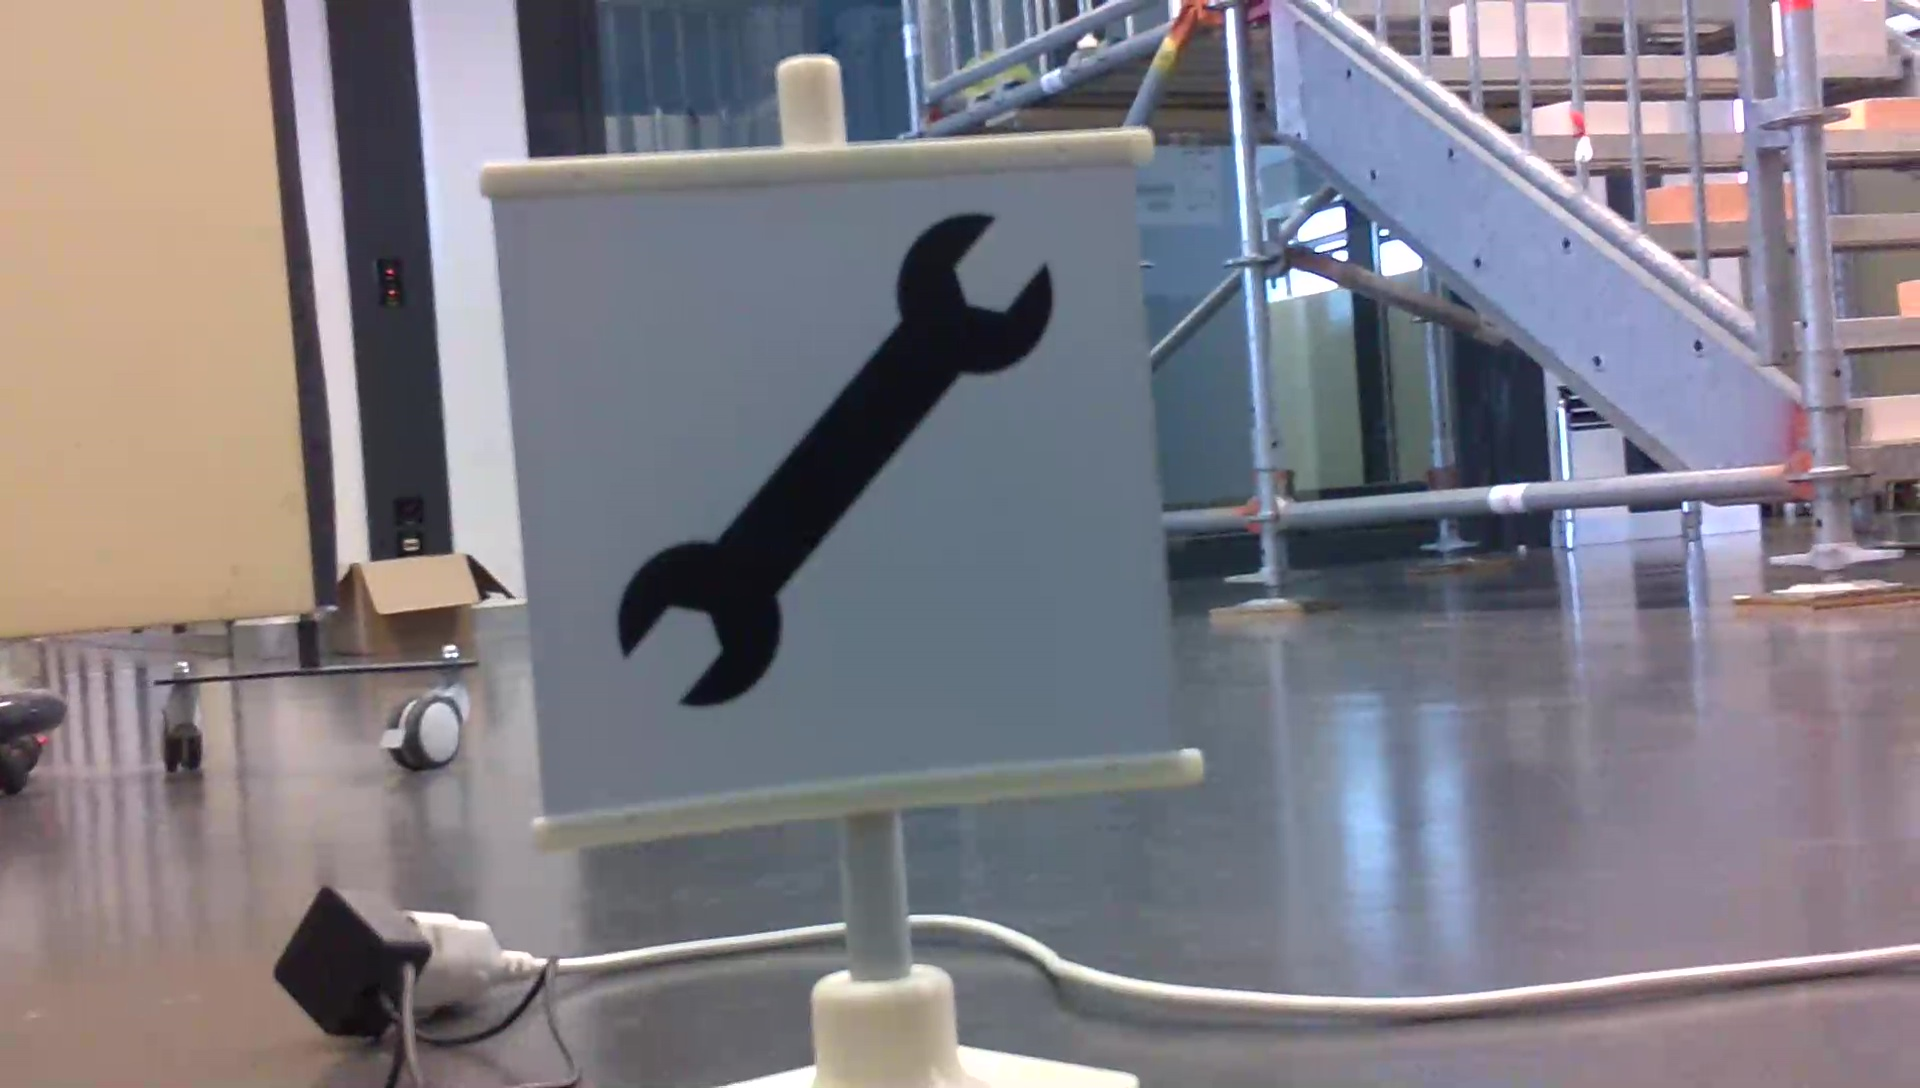brick: (1816, 3, 1886, 55), (1837, 98, 1920, 133), (1865, 393, 1920, 440), (1898, 281, 1920, 315)
wrench: (600, 196, 1060, 720)
